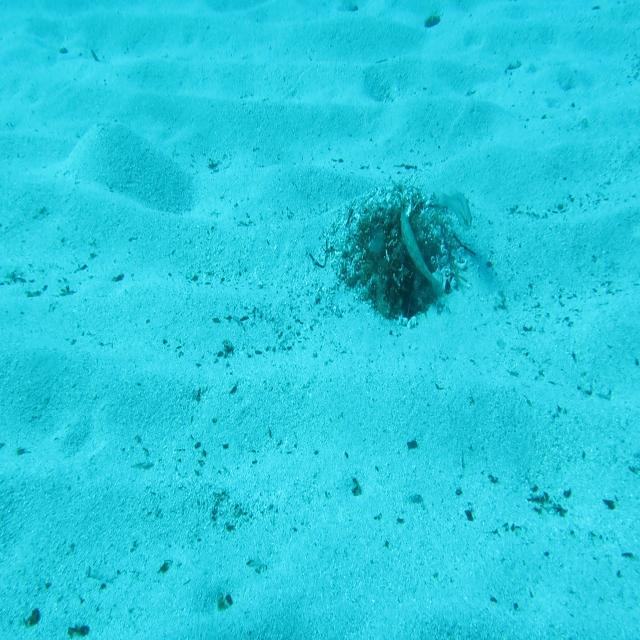DAN_CIRC: (398, 213, 452, 300)
female: (415, 180, 470, 218)
nest: (329, 176, 471, 316)
